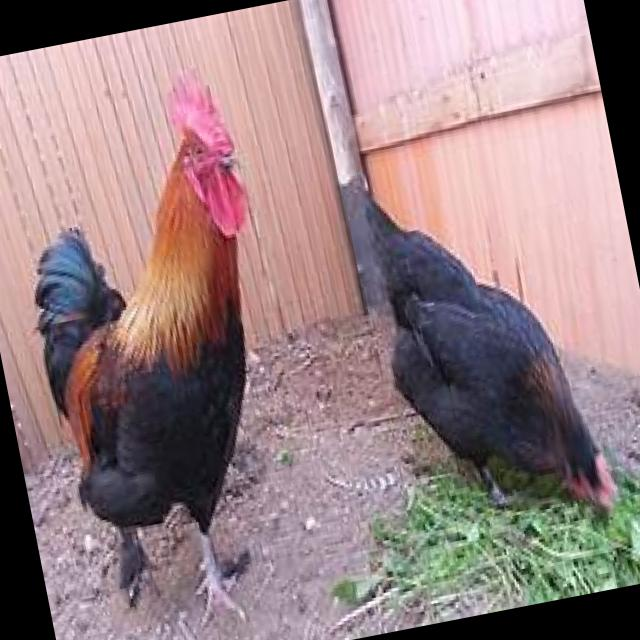chicken: (0, 39, 363, 640), (327, 106, 640, 606)
